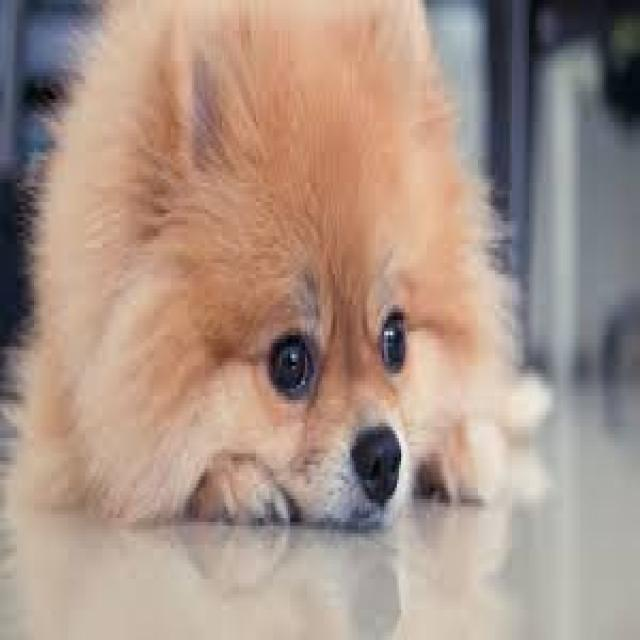dog: (185, 127, 431, 566)
